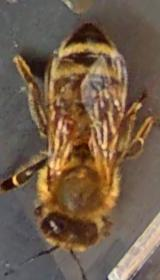varroa_mite: (56, 112, 80, 145)
